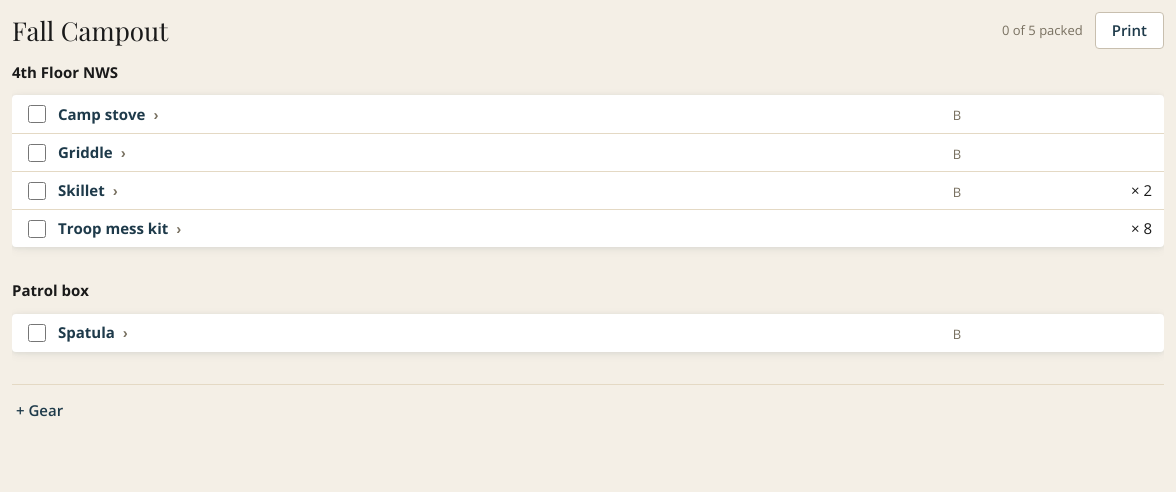
Scenario: Gear tab › ATick_ThatFailsToSave_IsUndone_AndSaysWhy
Click the checkbox named "Skillet packed": (37, 190) [28,182,46,200]
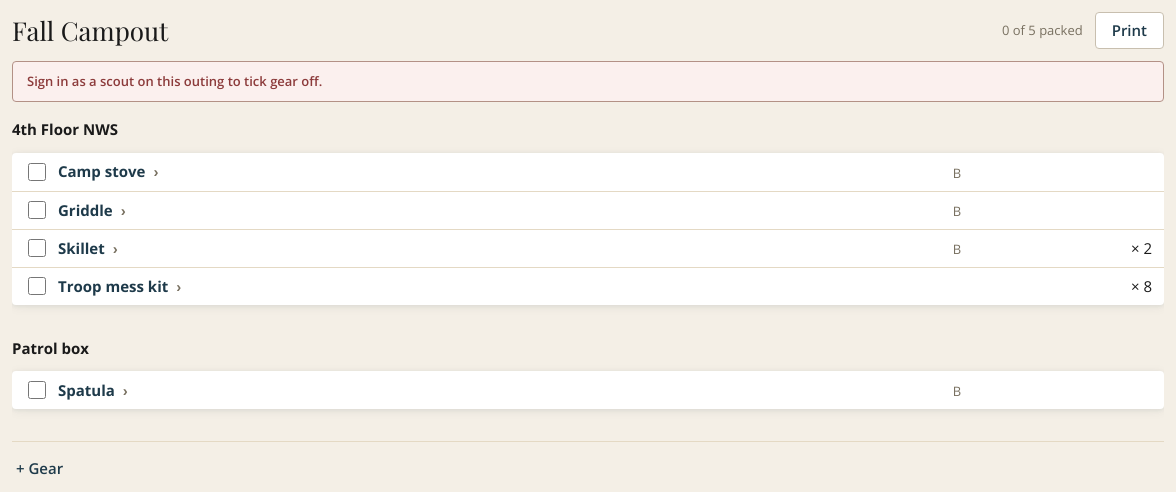
Check: the checkbox named "Skillet packed" is not checked, box [28,239,46,257]
Check: the text "Sign in as a scout on this outing to tick gear off." is shown, box [12,60,1164,102]
